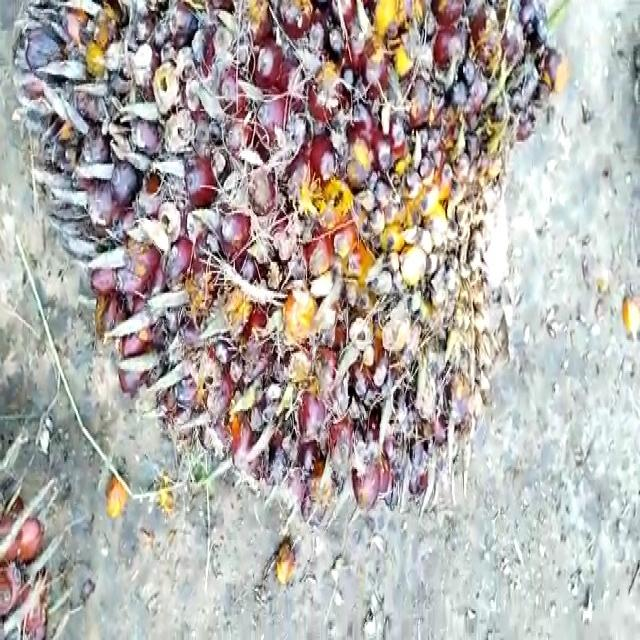palm oil: (21, 0, 582, 549)
